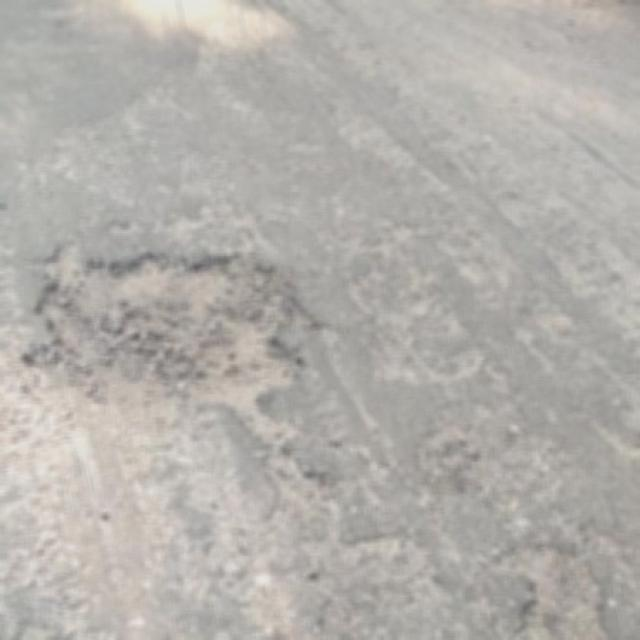road-pothole: (16, 252, 334, 563)
